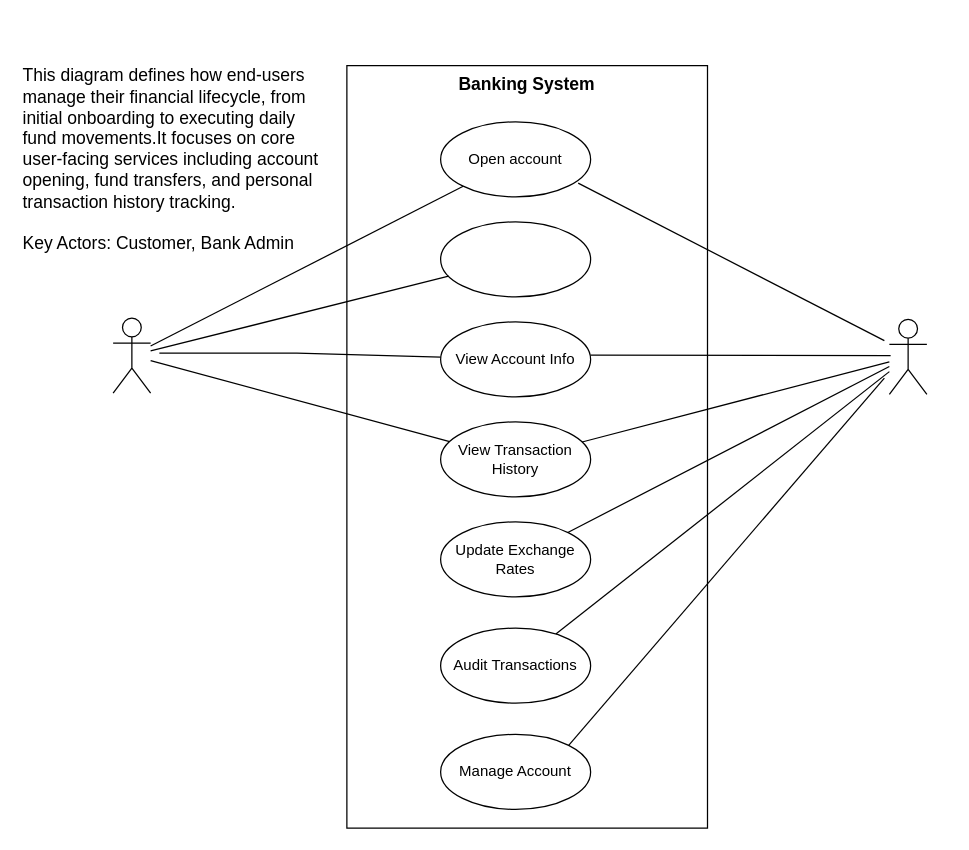
The diagram is 969 pixels wide and 850 high, and some of its shapes have lost their labels. Each missing label, with the centre of its shape:
"Bank Admin" belongs at point (907, 356).
"Customer" belongs at point (131, 355).
"Transfer Funds" belongs at point (515, 259).
